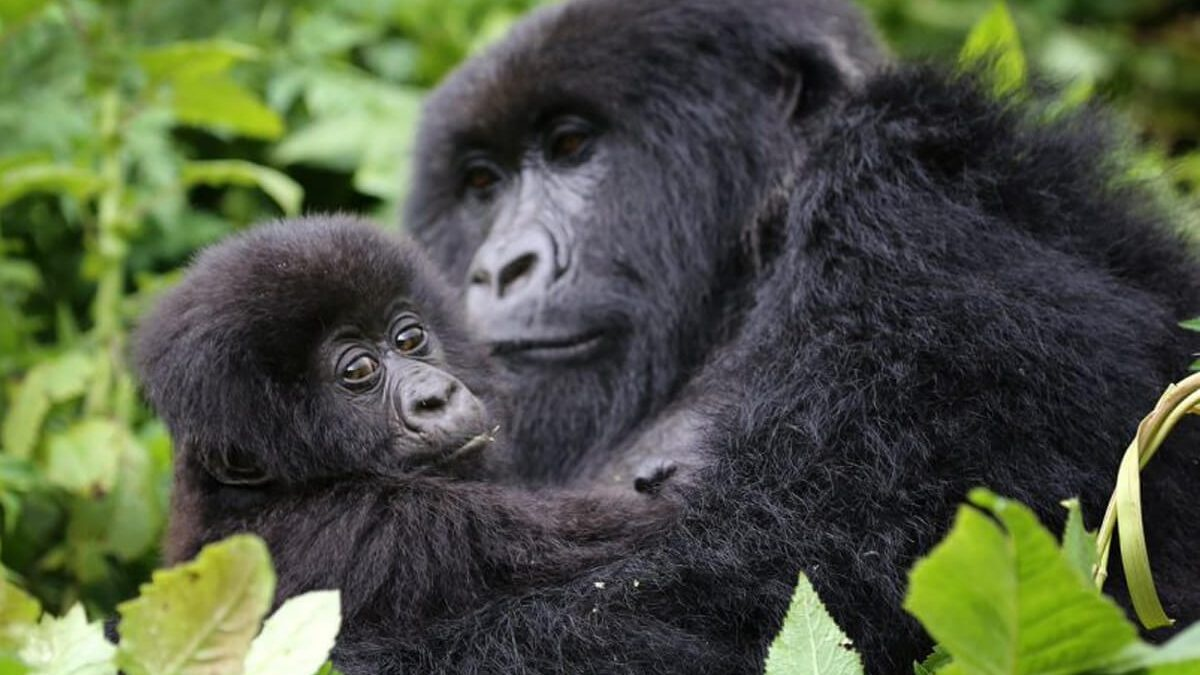gorilla: (391, 1, 1192, 675), (127, 202, 961, 674)
